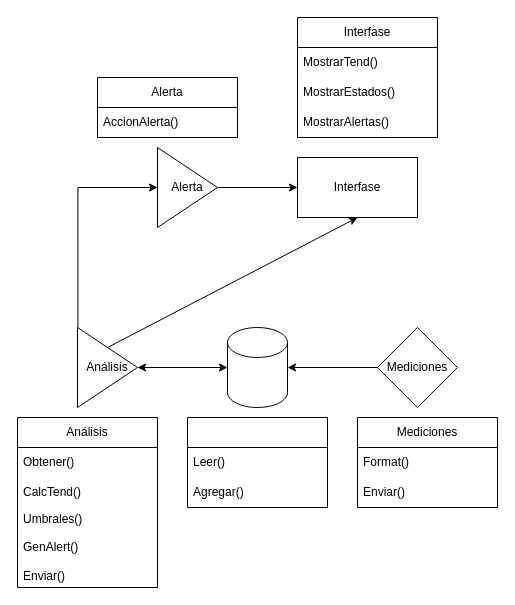
Image size: 515x605. Some labels were removed from this diagram. The shapes that lost their labels are listed below. From the top down, each one's box as (x1, y1, x2, y2) in pixels, then its label:
(226, 326, 288, 408): BD
(186, 416, 328, 508): Base de Datos
